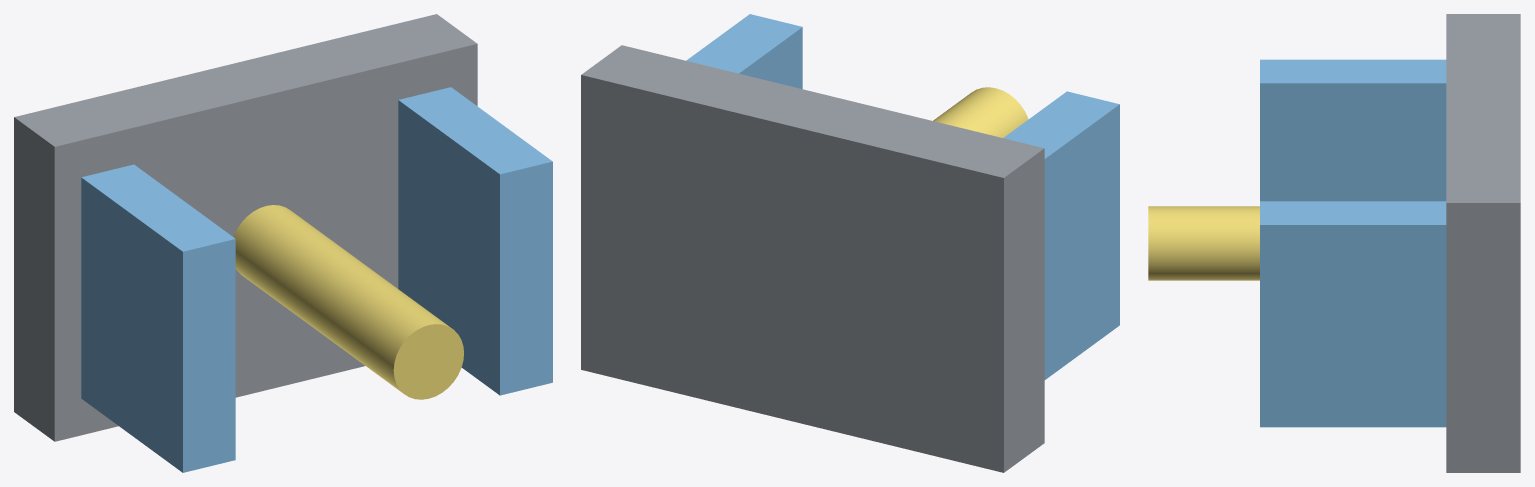
The model's file is assembly_out.glb.
3 views of the same model, side by side, from view 1: azimuth 30°, elevation 25°; view 2: azimuth 150°, elevation 25°; view 3: azimuth 270°, elevation 25° (orthographic). The views are drawn at different scales.
Parts seen in each view (by area): view 1: Base Bed, Left Plate, Right Plate, Main Rotor Shaft; view 2: Base Bed, Left Plate, Right Plate, Main Rotor Shaft; view 3: Right Plate, Base Bed, Left Plate, Main Rotor Shaft.
Part boxes in pixels (<box>): Base Bed: <box>14,14,477,441</box>; Left Plate: <box>81,164,235,472</box>; Right Plate: <box>398,87,552,395</box>; Main Rotor Shaft: <box>233,205,463,399</box>; Base Bed: <box>581,45,1044,472</box>; Left Plate: <box>1003,91,1119,379</box>; Right Plate: <box>686,14,802,88</box>; Main Rotor Shaft: <box>933,87,1028,137</box>; Right Plate: <box>1260,201,1446,427</box>; Base Bed: <box>1446,14,1520,472</box>; Left Plate: <box>1260,59,1446,201</box>; Main Rotor Shaft: <box>1148,206,1259,280</box>.
Bounding box in the file's own units: 120 × 80 × 100.
